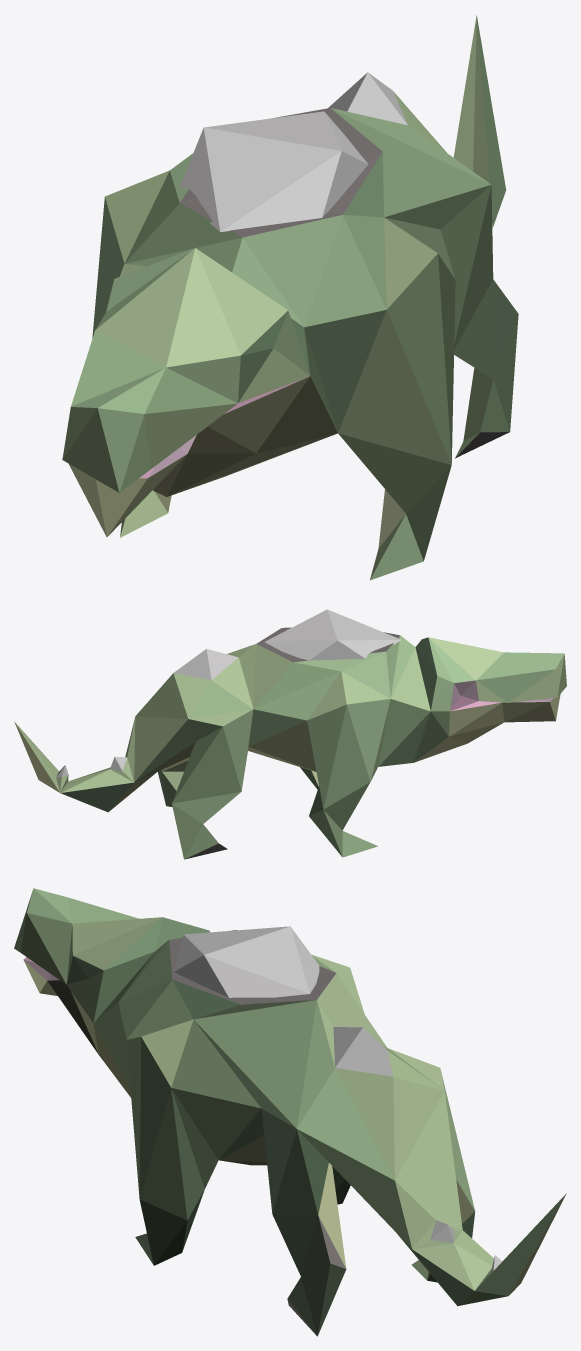
The model's file is SmallMuttadile.gltf.
3 views of the same model, one above another, from view 1: azimuth 30°, elevation 25°; view 2: azimuth 150°, elevation 25°; view 3: azimuth 270°, elevation 25° (orthographic). The views are drawn at different scales.
Visible parts, largest first — view 1: Muttadile; view 2: Muttadile; view 3: Muttadile.
Boxes of the visible parts, left/top/right/bottom form: Muttadile: left=62, top=15, right=518, bottom=580; Muttadile: left=14, top=609, right=566, bottom=859; Muttadile: left=14, top=888, right=566, bottom=1336.
Bounding box in the file's own units: 0.8801 × 0.4453 × 0.7603.
